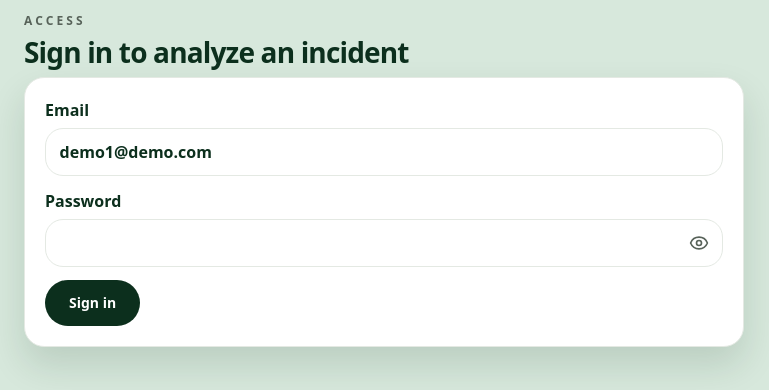
Test: LoginPage password visibility › starts masked and preserves the value while toggling without submitting
In the password field labelled "Password": (384, 243) [45,218,723,267], type "Demo1234$"
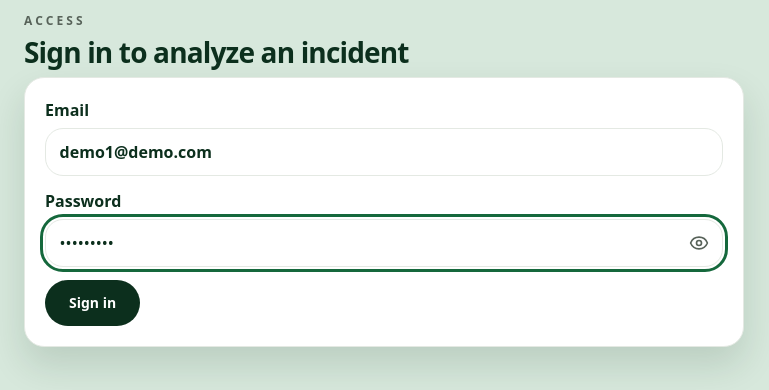
Click the button named "Show password": (699, 243) [679,223,719,263]
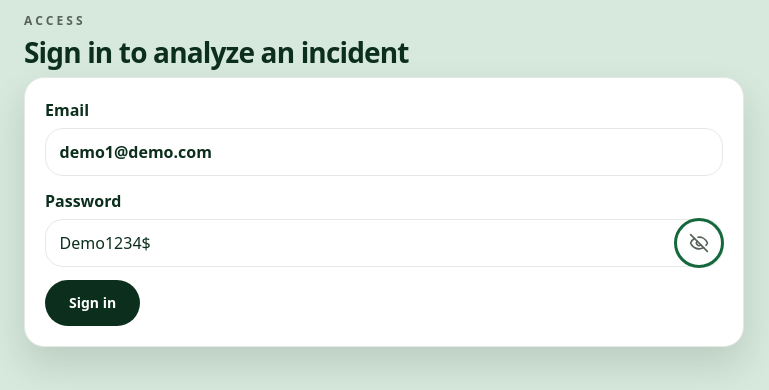
Expected: the field labelled "Password" shows its text, [45,218,723,267]
Click the button named "Hide password": (699, 243) [679,223,719,263]
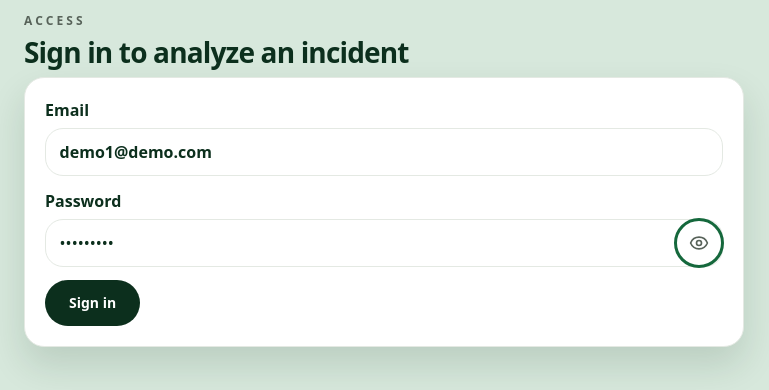
Expected: the password field labelled "Password" hides its text, [45,218,723,267]
